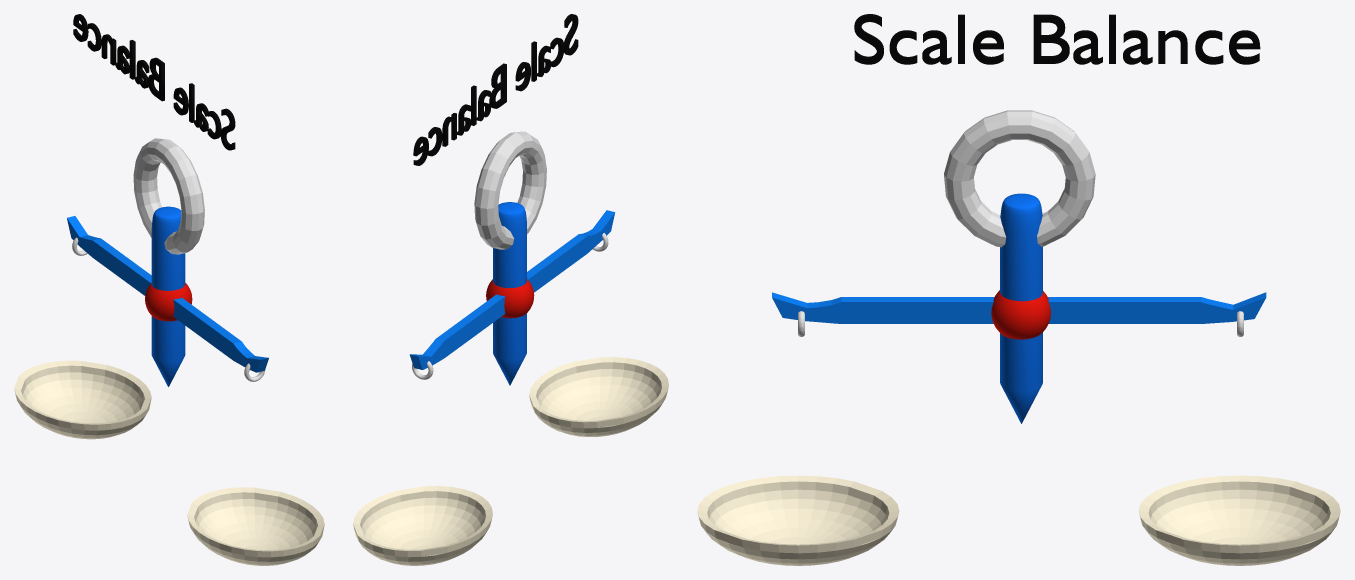
File: Scale Balance.blend.gltf
The picture shows the model from 3 angles, left to right: view 1: azimuth 30°, elevation 25°; view 2: azimuth 150°, elevation 25°; view 3: azimuth 270°, elevation 25°; orthographic projection. The views are drawn at different scales.
Parts seen in each view (by area): view 1: Sphere.003, Sphere.002, Torus.001, Plane, Cylinder, Text, Sphere; view 2: Sphere.003, Sphere.002, Torus.001, Plane, Cylinder, Text, Sphere; view 3: Sphere.002, Sphere.003, Plane, Torus.001, Text, Cylinder, Sphere.
Boxes of the visible parts, box(x1,y1,x2,y2) form: Sphere.003: box(14, 360, 151, 439); Sphere.002: box(187, 487, 324, 565); Torus.001: box(133, 138, 204, 254); Plane: box(67, 216, 268, 372); Cylinder: box(151, 206, 185, 386); Text: box(73, 14, 235, 150); Sphere: box(145, 283, 192, 321); Sphere.003: box(353, 486, 492, 565); Sphere.002: box(529, 357, 668, 436); Torus.001: box(474, 131, 546, 249); Plane: box(409, 210, 615, 369); Cylinder: box(493, 202, 526, 385); Text: box(413, 14, 578, 165); Sphere: box(486, 279, 534, 318); Sphere.002: box(697, 475, 899, 565); Sphere.003: box(1138, 475, 1340, 565); Plane: box(772, 292, 1266, 323); Torus.001: box(944, 110, 1095, 247); Text: box(854, 14, 1260, 64); Cylinder: box(1000, 193, 1042, 423); Sphere: box(991, 290, 1050, 339).
Size of the model in its own units: 1.11 by 3.97 by 4.3.
